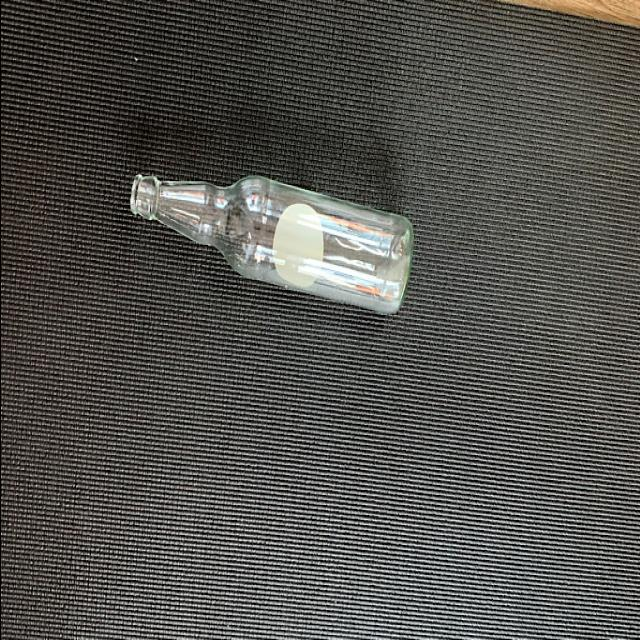Glass Bottle: (114, 150, 415, 331)
